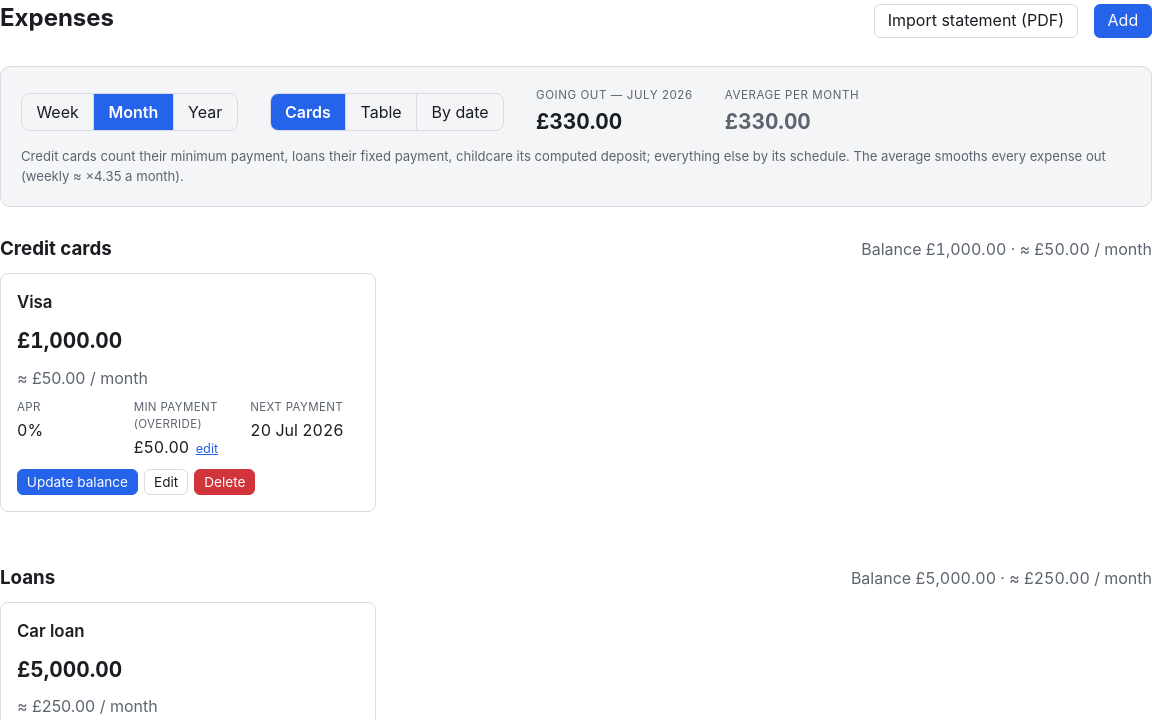
Test: Expenses screen › opens the edit form in a modal dialog
Expected: the text "Visa" is shown, [17,290,52,315]
Step 1. Click the button "Edit" → (166, 482), box [144,469,188,495]
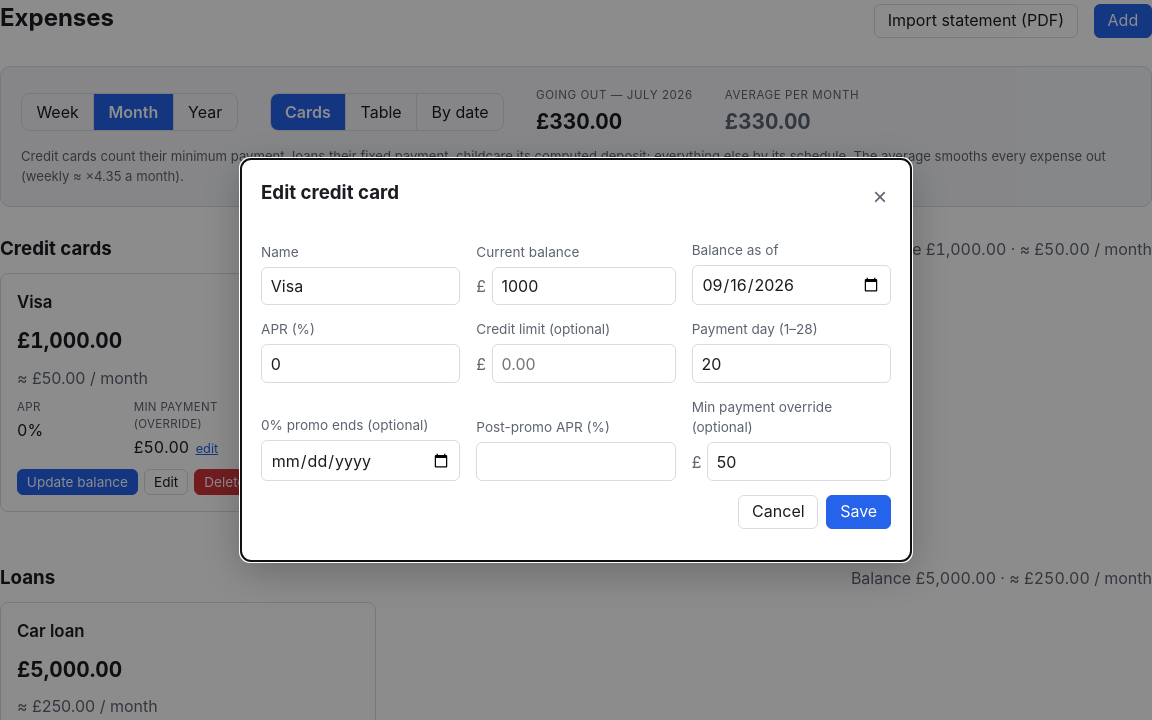
Expected: the dialog is shown
Expected: the field showing "Visa" below "Name" is shown, [261,267,460,306]
Note: Escape closes it.
Step 2. Press Escape
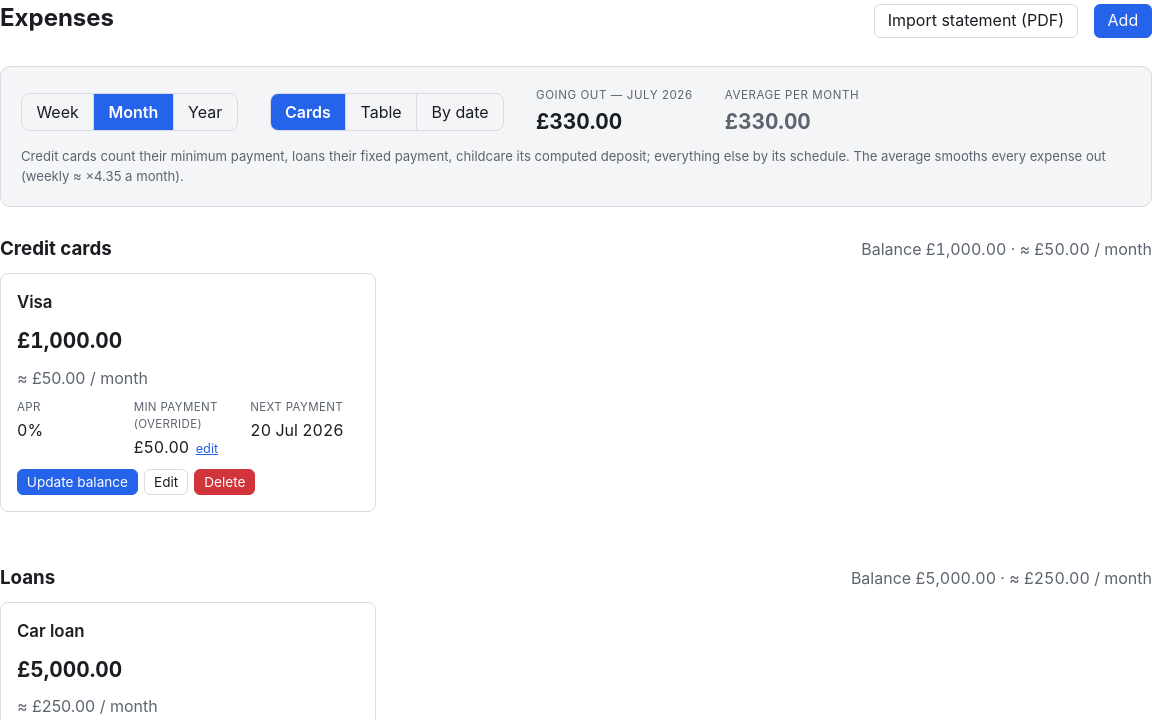
Expected: the dialog is gone
